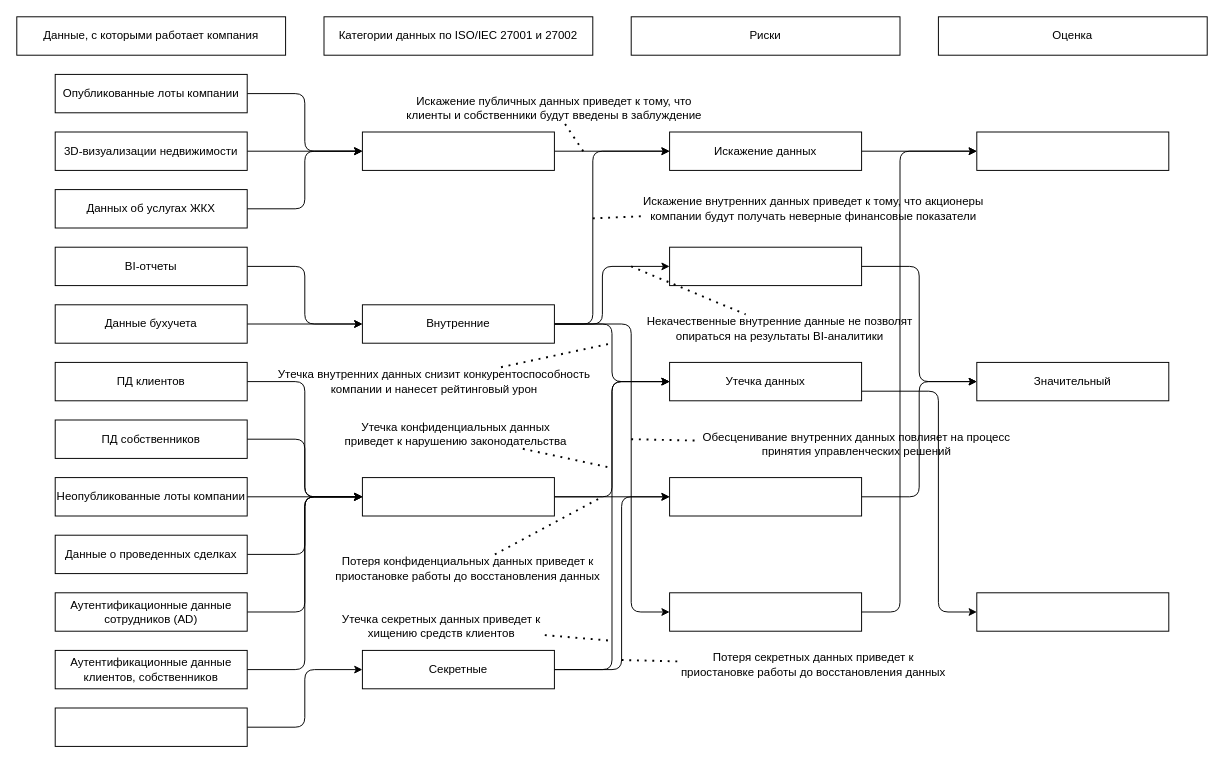
The diagram is 1224 pixels wide and 763 high, and some of its shapes have lost their labels. The shapes that lost their labels are listed below. From the top down, each one's centre as x and y in pixels, then its label:
the point at 457,150: Публичные
the point at 1072,150: Незначительный
the point at 765,266: Некачественные данные
the point at 457,496: Конфиденциальные
the point at 765,496: Потеря данных
the point at 765,611: Обесценивание данных
the point at 1072,611: Критический
the point at 150,726: Платежная информация собственников
